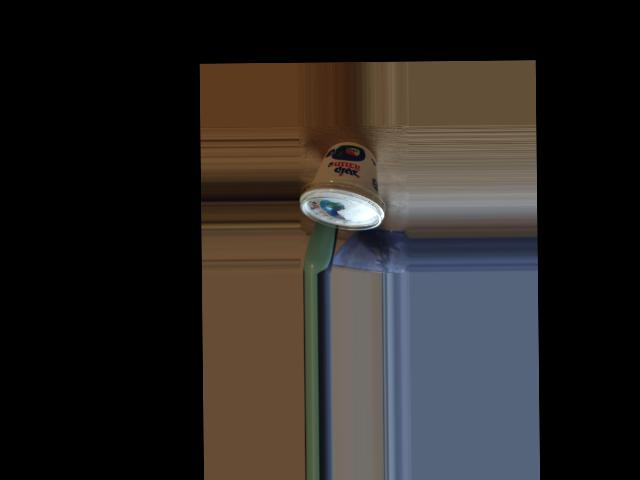cotage: (308, 148, 380, 230)
